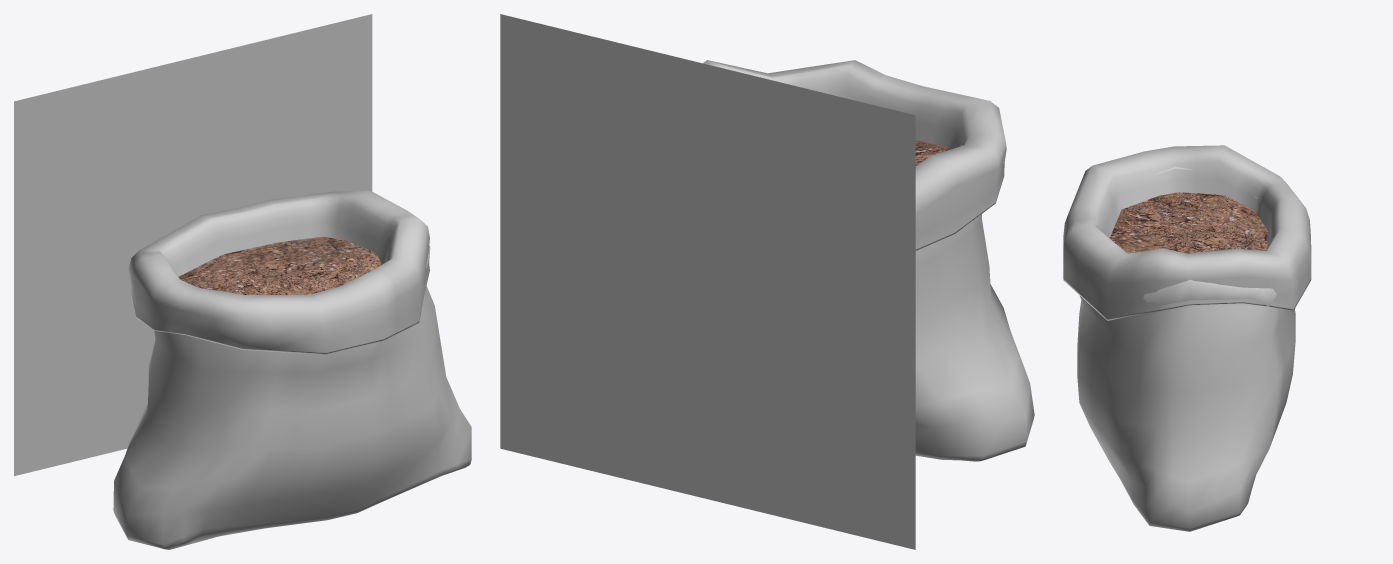
File: saco.FBX
The picture shows the model from 3 angles, left to right: view 1: azimuth 30°, elevation 25°; view 2: azimuth 150°, elevation 25°; view 3: azimuth 270°, elevation 25°; orthographic projection. The views are drawn at different scales.
Parts seen in each view (by area): view 1: Saco_03, Ref, Tapa; view 2: Ref, Saco_03; view 3: Saco_03, Tapa.
Boxes of the visible parts, <box> form: Saco_03: <box>113,190,471,549</box>; Ref: <box>14,14,372,476</box>; Tapa: <box>178,236,381,294</box>; Ref: <box>500,14,915,549</box>; Saco_03: <box>703,60,1034,461</box>; Saco_03: <box>1063,145,1311,531</box>; Tapa: <box>1109,192,1267,253</box>.
Size of what is drawn, in the model's own units: 10 by 10.05 by 7.82.
